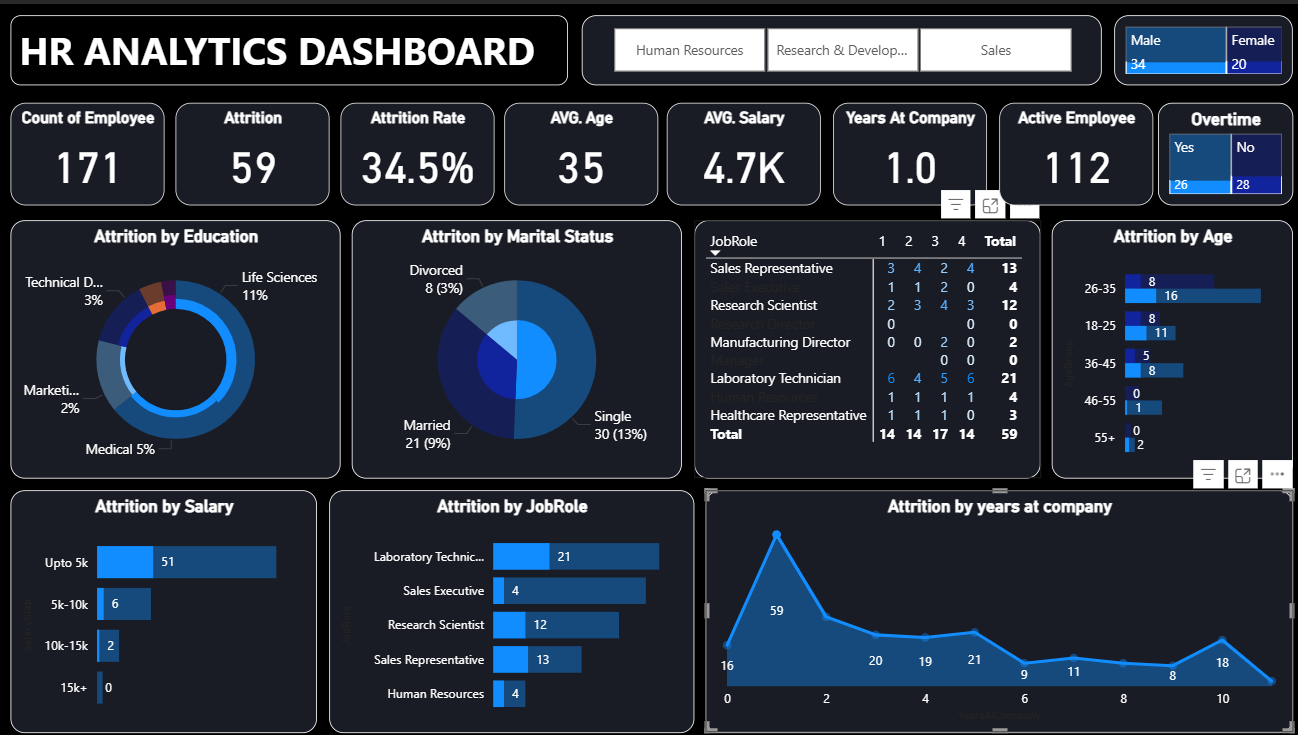

This screenshot's page, from the dashboard's own definition file:
{"tool":"powerbi","page":{"name":"Page 1","canvas":[1280,720],"ordinal":0},"visuals":[{"type":"card","title":"Count of Employee","fields":{"Values":["CountNonNull(HR_Analytics.EmpID)"]},"box":[12.3,96.9,150.9,100.6],"z":0},{"type":"card","title":"Attrition","fields":{"Values":["Sum(HR_Analytics.AttritonCount)"]},"box":[174.2,96.9,150.9,100.6],"z":1000},{"type":"card","title":"AVG. Age","fields":{"Values":["Avg(HR_Analytics.Age)"]},"box":[496.9,96.9,150.9,100.6],"z":2000},{"type":"card","title":"Attrition Rate","fields":{"Values":["HR_Analytics.AttririonRate"]},"box":[336.2,96.9,150.9,100.6],"z":3000},{"type":"textbox","box":[12.3,11,547.5,68.6],"z":4000},{"type":"card","title":"AVG. Salary","fields":{"Values":["Avg(HR_Analytics.MonthlyIncome)"]},"box":[656.4,96.9,150.9,100.6],"z":5000},{"type":"card","title":"Years At Company","fields":{"Values":["Avg(HR_Analytics.YearsAtCompany)"]},"box":[819.6,96.9,150.9,100.6],"z":6000},{"type":"donutChart","title":"Attrition by Education","fields":{"Y":["Sum(HR_Analytics.AttritonCount)"],"Category":["HR_Analytics.EducationField"]},"box":[12.3,212.3,323.9,254],"z":7000},{"type":"clusteredBarChart","title":"Attrition by Age","fields":{"Category":["HR_Analytics.AgeGroup"],"Y":["Sum(HR_Analytics.AttritonCount)"],"Series":["HR_Analytics.Gender"]},"box":[1034.4,212.3,236.8,254],"z":8000},{"type":"pivotTable","fields":{"Rows":["HR_Analytics.JobRole"],"Columns":["HR_Analytics.JobSatisfaction"],"Values":["Sum(HR_Analytics.AttritonCount)"]},"box":[683.4,212.3,339.9,254],"z":9000},{"type":"barChart","title":"Attrition by Salary","fields":{"Category":["HR_Analytics.SalarySlab"],"Y":["Sum(HR_Analytics.AttritonCount)"]},"box":[12.3,477.3,300.6,238],"z":10000},{"type":"barChart","title":"Attrition by JobRole","fields":{"Y":["Sum(HR_Analytics.AttritonCount)"],"Category":["HR_Analytics.JobRole"]},"box":[325.2,477.3,358.3,238],"z":11000},{"type":"stackedAreaChart","title":"Attrition by years at company","fields":{"Category":["HR_Analytics.YearsAtCompany"],"Y":["Sum(HR_Analytics.AttritonCount)"]},"box":[694.5,477.3,576.7,238],"z":12000},{"type":"treemap","title":"Attrition by Age","fields":{"Group":["HR_Analytics.Gender"],"Values":["Sum(HR_Analytics.AttritonCount)"]},"box":[1095.7,11,175.5,68.7],"z":13000},{"type":"slicer","title":"Attrition by Age","fields":{"Values":["HR_Analytics.Department"]},"box":[573,11,510.4,68.7],"z":14000},{"type":"pieChart","title":"Attriton by Marital Status","fields":{"Category":["HR_Analytics.MaritalStatus"],"Y":["Sum(HR_Analytics.AttritonCount)"]},"box":[347.2,212.3,323.9,254],"z":15000},{"type":"treemap","title":"Overtime","fields":{"Group":["HR_Analytics.OverTime"],"Values":["Sum(HR_Analytics.AttritonCount)"]},"box":[1138.7,96.9,132.5,100.6],"z":16000},{"type":"card","title":"Active Employee","fields":{"Values":["HR_Analytics.Active Employee"]},"box":[982.8,96.9,150.9,100.6],"z":16001}]}

Visuals, with their boxes in screenshot pixels (x1, y1, x2, y2), scaled from the page's 1280x720 canvas onto the 1298x735 screenshot:
"Count of Employee" card: x1=12, y1=99, x2=165, y2=202
"Attrition" card: x1=177, y1=99, x2=330, y2=202
"AVG. Age" card: x1=504, y1=99, x2=657, y2=202
"Attrition Rate" card: x1=341, y1=99, x2=494, y2=202
textbox: x1=12, y1=11, x2=568, y2=81
"AVG. Salary" card: x1=666, y1=99, x2=819, y2=202
"Years At Company" card: x1=831, y1=99, x2=984, y2=202
"Attrition by Education" donutChart: x1=12, y1=217, x2=341, y2=476
"Attrition by Age" clusteredBarChart: x1=1049, y1=217, x2=1289, y2=476
pivotTable - HR_Analytics.JobRole x HR_Analytics.JobSatisfaction: x1=693, y1=217, x2=1038, y2=476
"Attrition by Salary" barChart: x1=12, y1=487, x2=317, y2=730
"Attrition by JobRole" barChart: x1=330, y1=487, x2=693, y2=730
"Attrition by years at company" stackedAreaChart: x1=704, y1=487, x2=1289, y2=730
"Attrition by Age" treemap: x1=1111, y1=11, x2=1289, y2=81
"Attrition by Age" slicer: x1=581, y1=11, x2=1099, y2=81
"Attriton by Marital Status" pieChart: x1=352, y1=217, x2=681, y2=476
"Overtime" treemap: x1=1155, y1=99, x2=1289, y2=202
"Active Employee" card: x1=997, y1=99, x2=1150, y2=202
